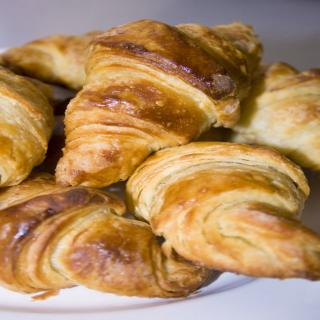Croissant: (0, 17, 263, 191), (0, 171, 214, 300), (122, 141, 314, 280), (225, 61, 319, 172), (0, 63, 55, 189), (0, 30, 98, 91)
